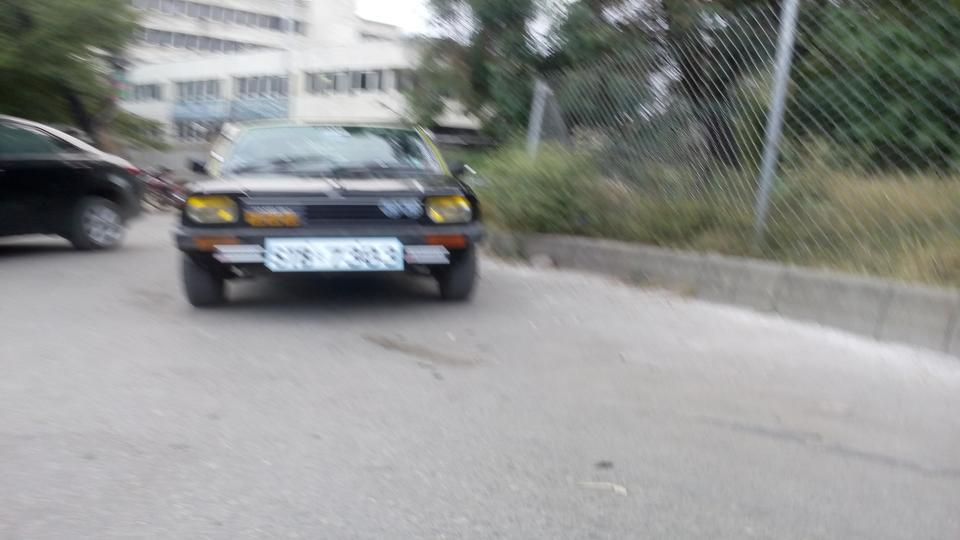NumberPlate: (261, 237, 405, 274)
